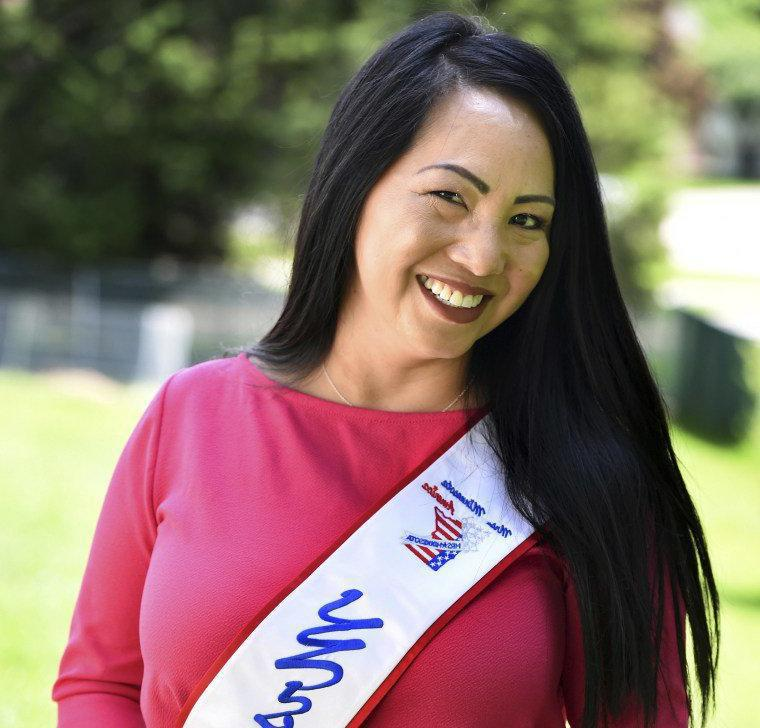Sober: (364, 89, 552, 370)
